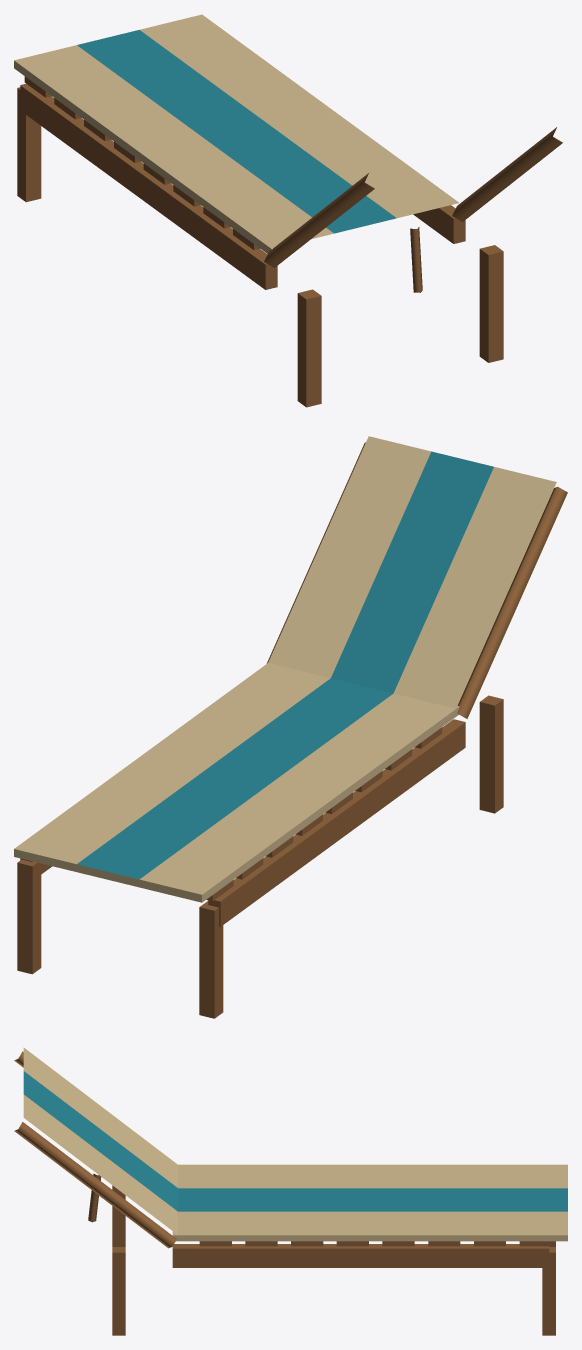
Rendered from sun_lounger.glb.
3 views of the same model, one above another, from view 1: azimuth 30°, elevation 25°; view 2: azimuth 150°, elevation 25°; view 3: azimuth 270°, elevation 25° (orthographic). The views are drawn at different scales.
Visible parts, largest first — view 1: Lounger; view 2: Lounger; view 3: Lounger.
Part boxes in pixels (box(x1,y1,x2,y2)): Lounger: box(14, 14, 562, 407); Lounger: box(14, 436, 567, 1018); Lounger: box(14, 1047, 567, 1335).
Bounding box in the file's own units: 0.67 × 0.8871 × 2.06.
Materials: 1 (1 with a texture image).
